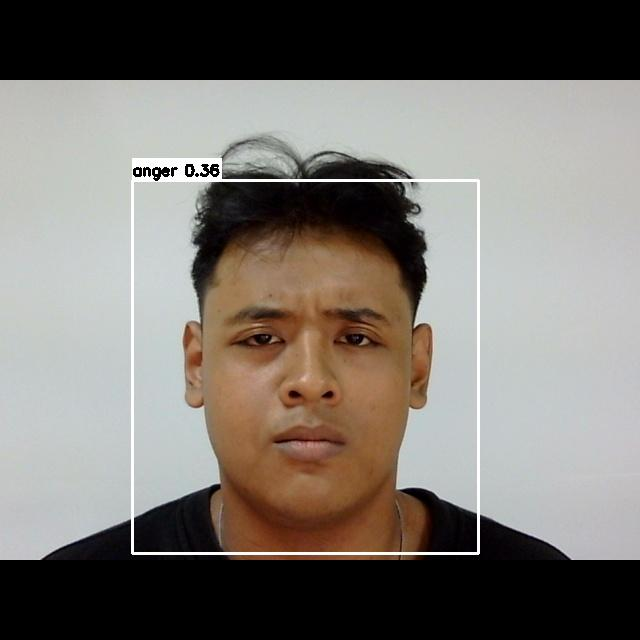Angry: (192, 277, 409, 494)
